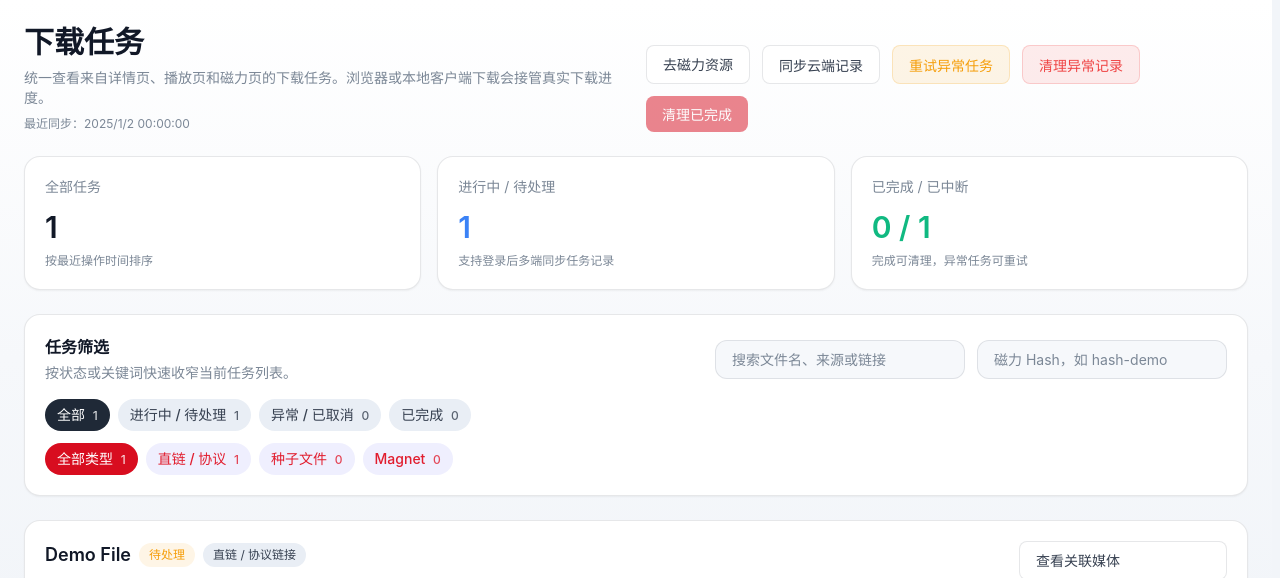
Test: DownloadsView › shows the generic failed-clear failure message when no remote error text is available
Click the button "清理异常记录" at (1081, 64), box x1=1022 y1=45 x2=1140 y2=84
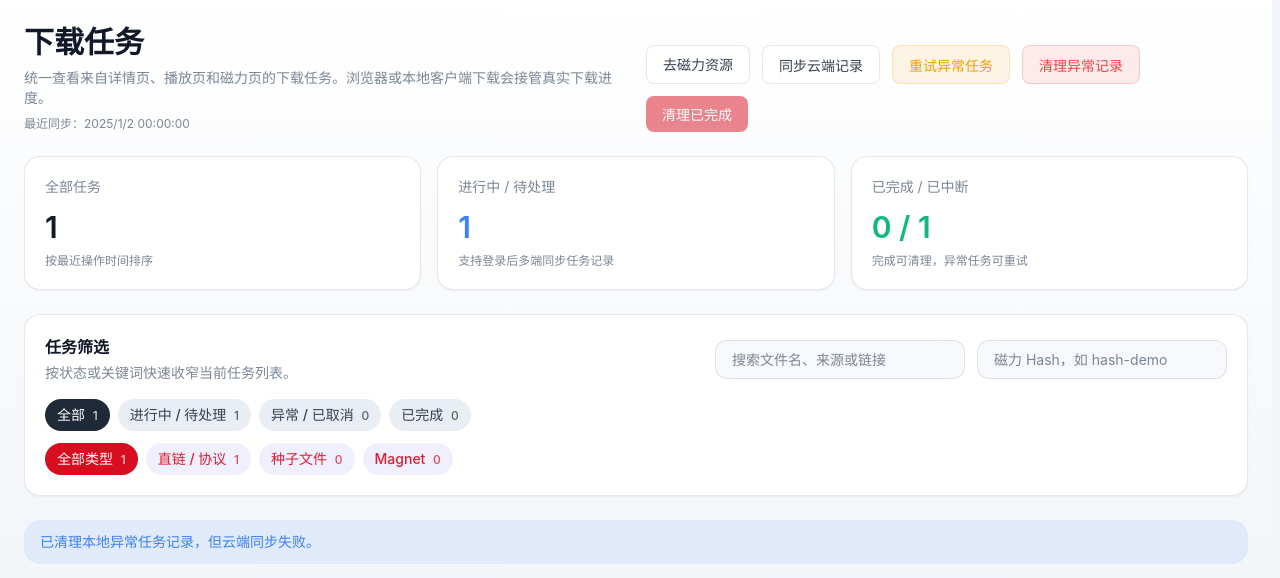
Result: the text "已清理本地异常任务记录，但云端同步失败。" is shown at x1=24 y1=520 x2=1248 y2=564
